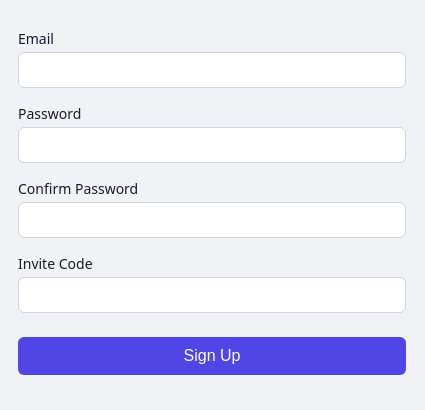
SignupForm › shows error message when signup fails
This screenshot has width=425, height=410.
Type "test@example.com" into the field labelled "Email" at [212, 70], box [18, 52, 406, 88]
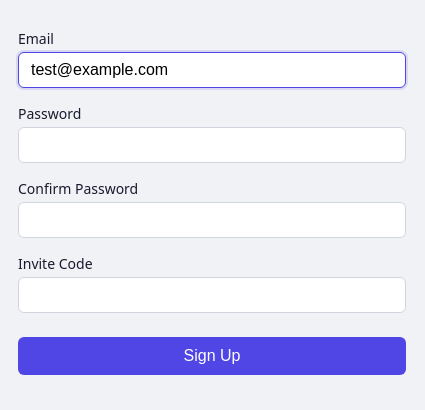
Type "password123" into the password field labelled "Password" at [212, 145], box [18, 127, 406, 163]
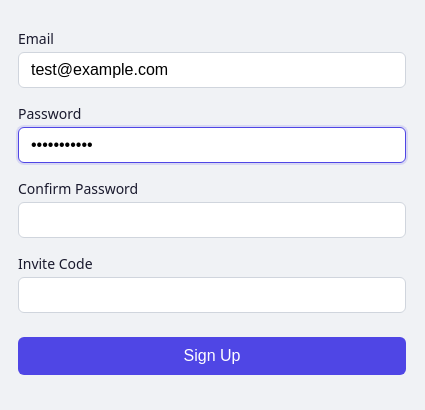
Type "password123" into the password field labelled "Confirm Password" at [212, 220], box [18, 202, 406, 238]
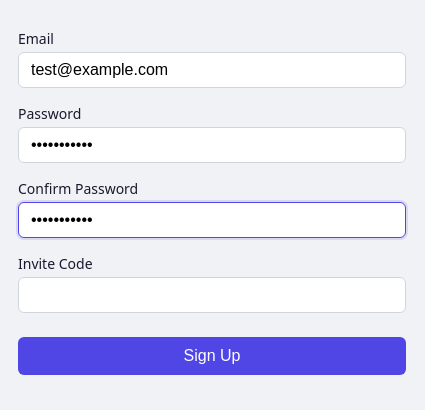
Type "ABC123" into the field labelled "Invite Code" at [212, 295], box [18, 277, 406, 313]
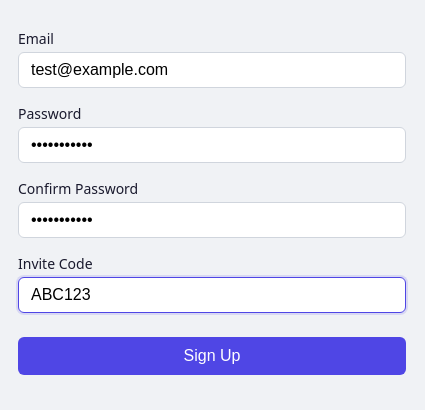
Click the button "Sign Up" at [212, 356], box [18, 337, 406, 375]
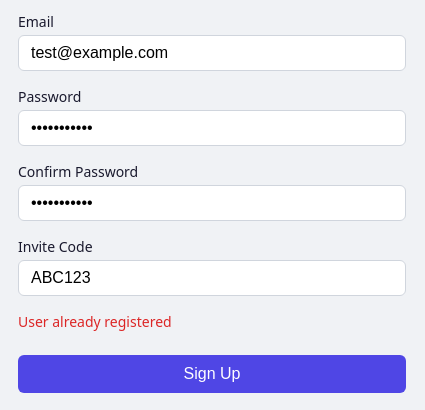
Now the text "User already registered" is shown, box [18, 312, 172, 330]
